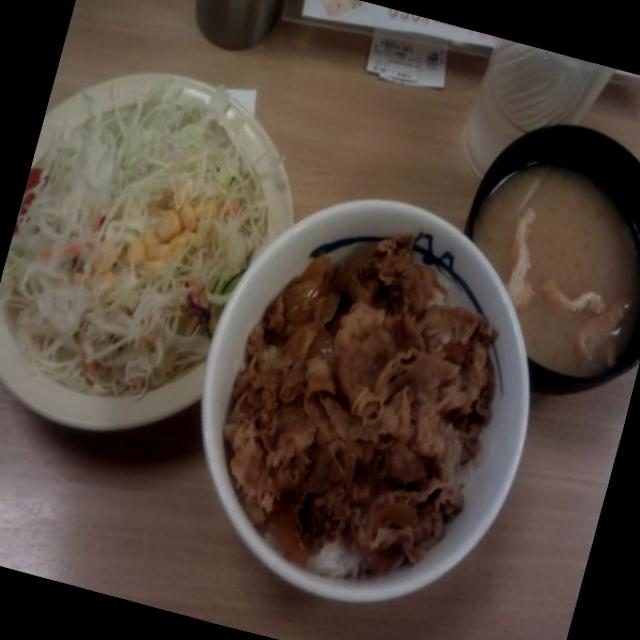Green Salad: (0, 74, 277, 435)
